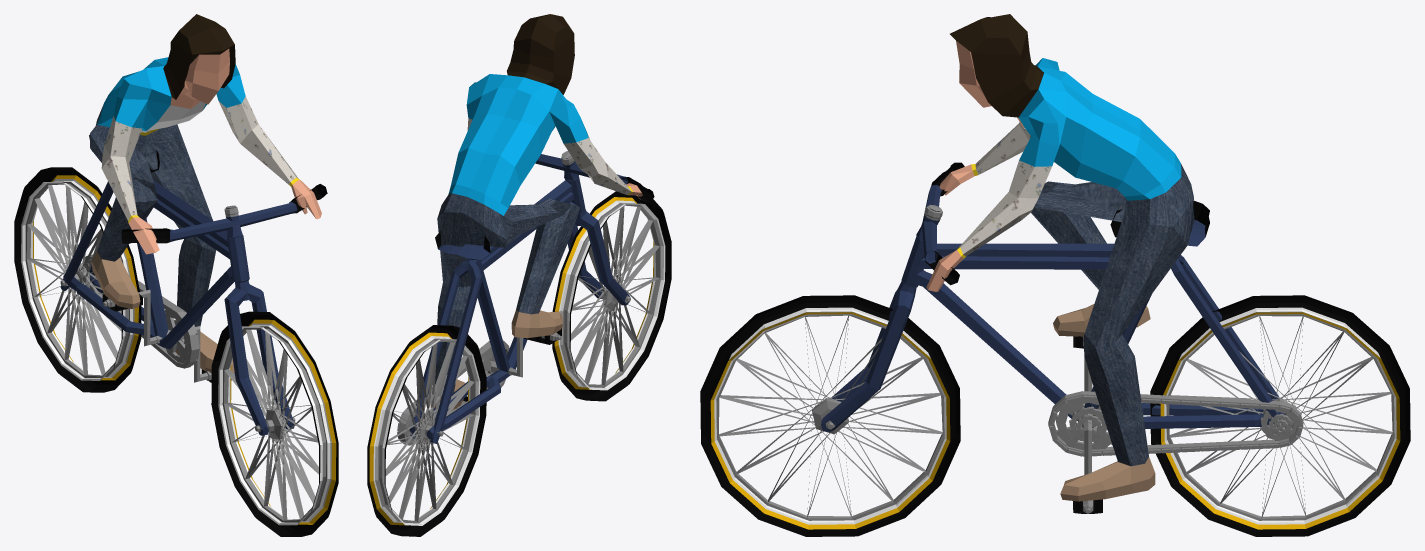
Rendered from SpringGirl.002.glb.
3 renders of one model, left to right at view 1: azimuth 30°, elevation 25°; view 2: azimuth 150°, elevation 25°; view 3: azimuth 270°, elevation 25°, orthographic. The views are drawn at different scales.
Visible parts, largest first — view 1: SpringGirl.011; view 2: SpringGirl.011; view 3: SpringGirl.011.
Part boxes in pixels (left/top/right/bottom): SpringGirl.011: left=14, top=14, right=338, bottom=536; SpringGirl.011: left=367, top=14, right=671, bottom=536; SpringGirl.011: left=700, top=14, right=1410, bottom=536.
Bounding box in the file's own units: 0.5321 × 1.15 × 1.42.
6 materials, 1 textured.
